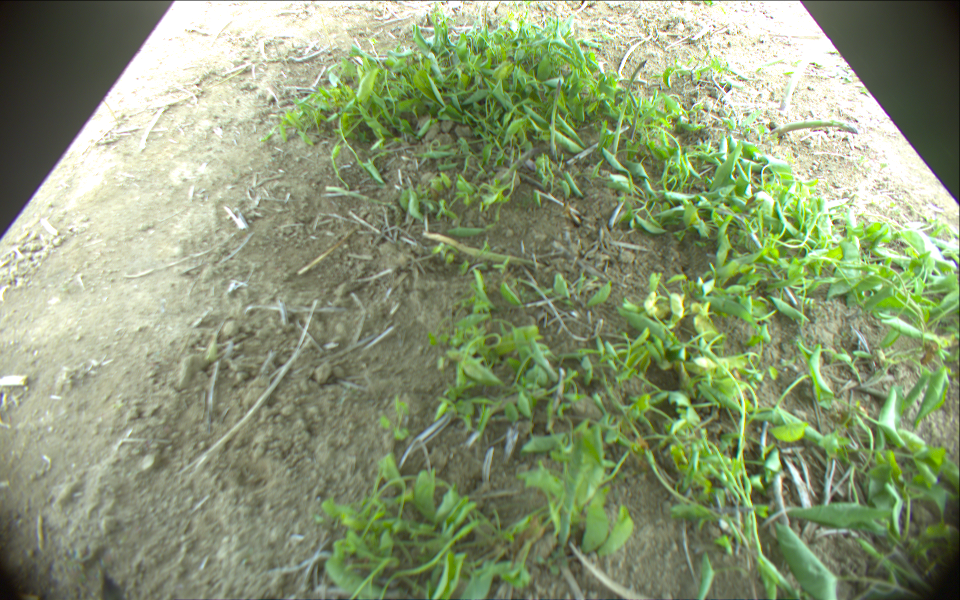aspa: (613, 59, 647, 156), (776, 45, 822, 113), (769, 120, 859, 139), (548, 77, 563, 157)
